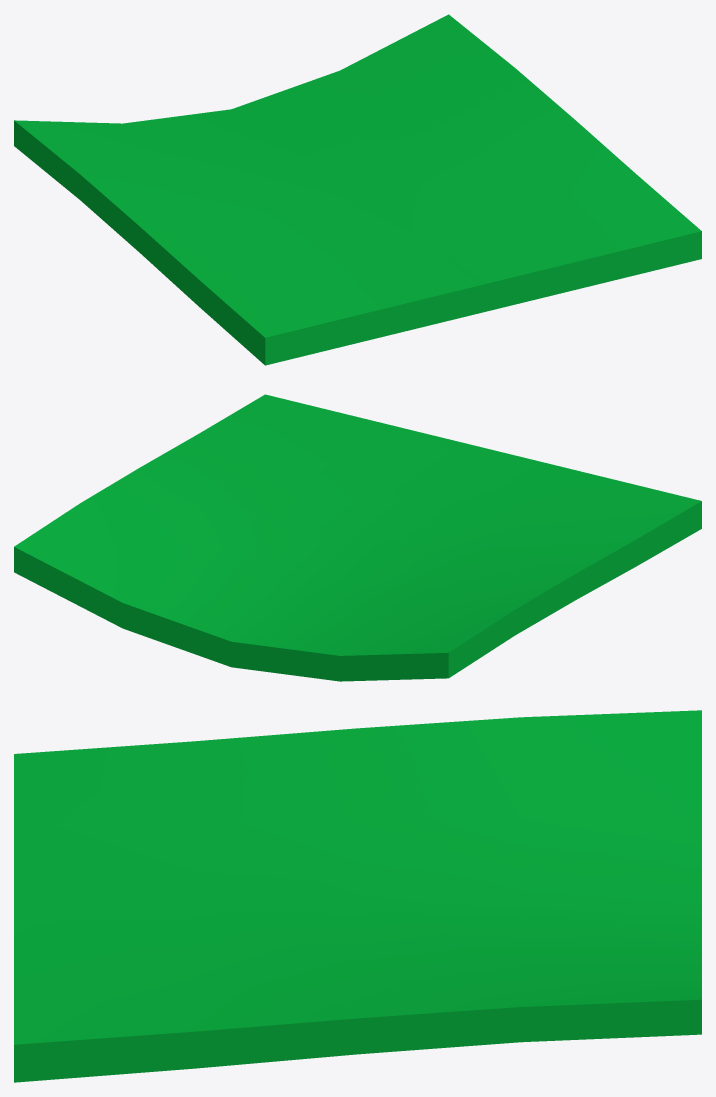
File: basic_floor2dpath.gltf
3 renders of one model, top to bottom at view 1: azimuth 30°, elevation 25°; view 2: azimuth 150°, elevation 25°; view 3: azimuth 270°, elevation 25°, orthographic. The views are drawn at different scales.
Visible parts, largest first — view 1: basic_floor2dpath_glb; view 2: basic_floor2dpath_glb; view 3: basic_floor2dpath_glb.
Boxes of the visible parts, x1,y1,x2,y2 form: basic_floor2dpath_glb: (14,14,701,365); basic_floor2dpath_glb: (14,394,701,681); basic_floor2dpath_glb: (14,710,701,1082).
Size of what is drawn, in the model's own units: 4 by 0.591 by 4.
Materials: 1 (1 with a texture image).
